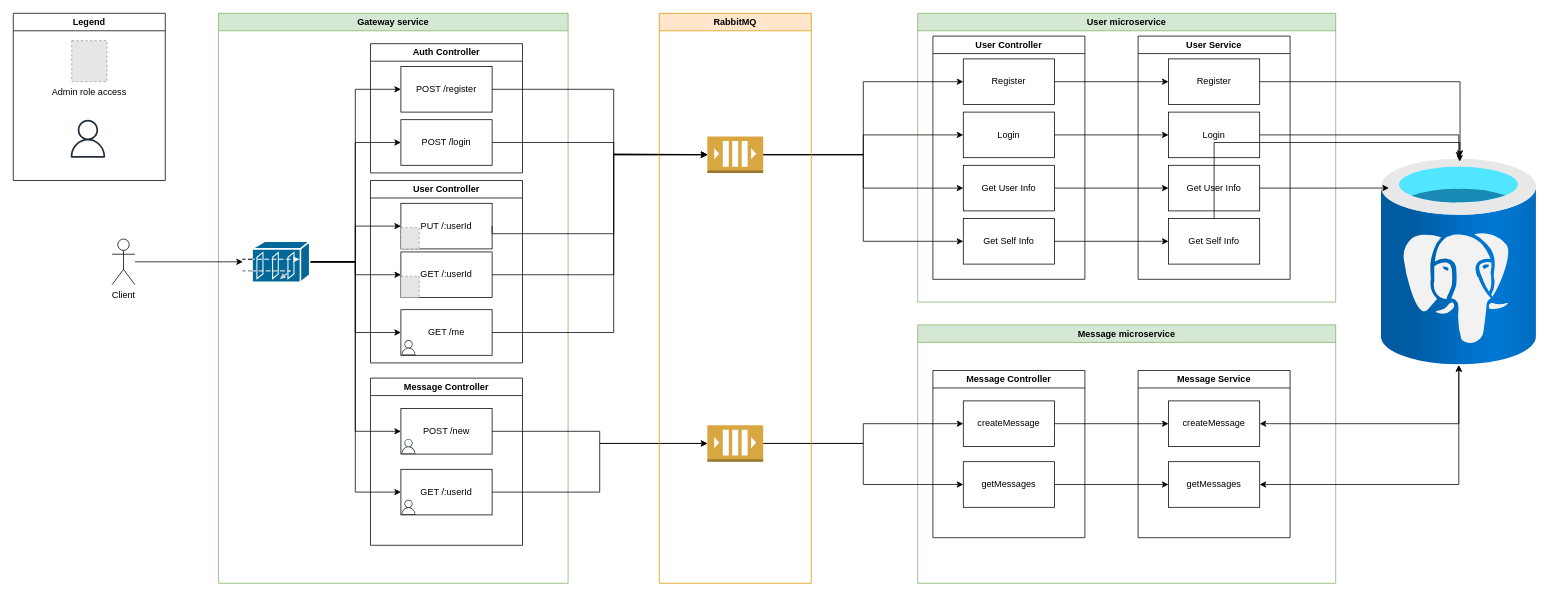
The diagram is 1550 pixels wide and 597 high, and some of its shapes have lost their labels. Grey dashed boxes stand in for pictures. Here are the shapes that lost their labels. From the top down, the centre of each, then its label:
At (x=88, y=138): "User role access".
At (x=735, y=154): "user_queue".
At (x=276, y=261): "Authorization Guard".
At (x=1458, y=261): "Database".
At (x=735, y=443): "message_queue".
